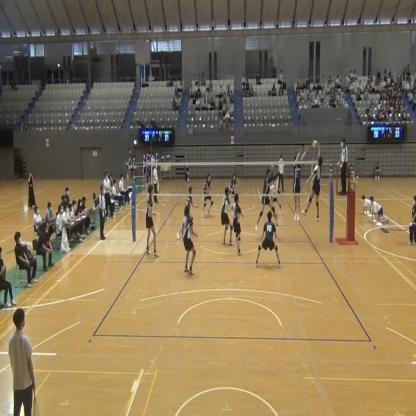spike: (300, 138, 324, 226)
